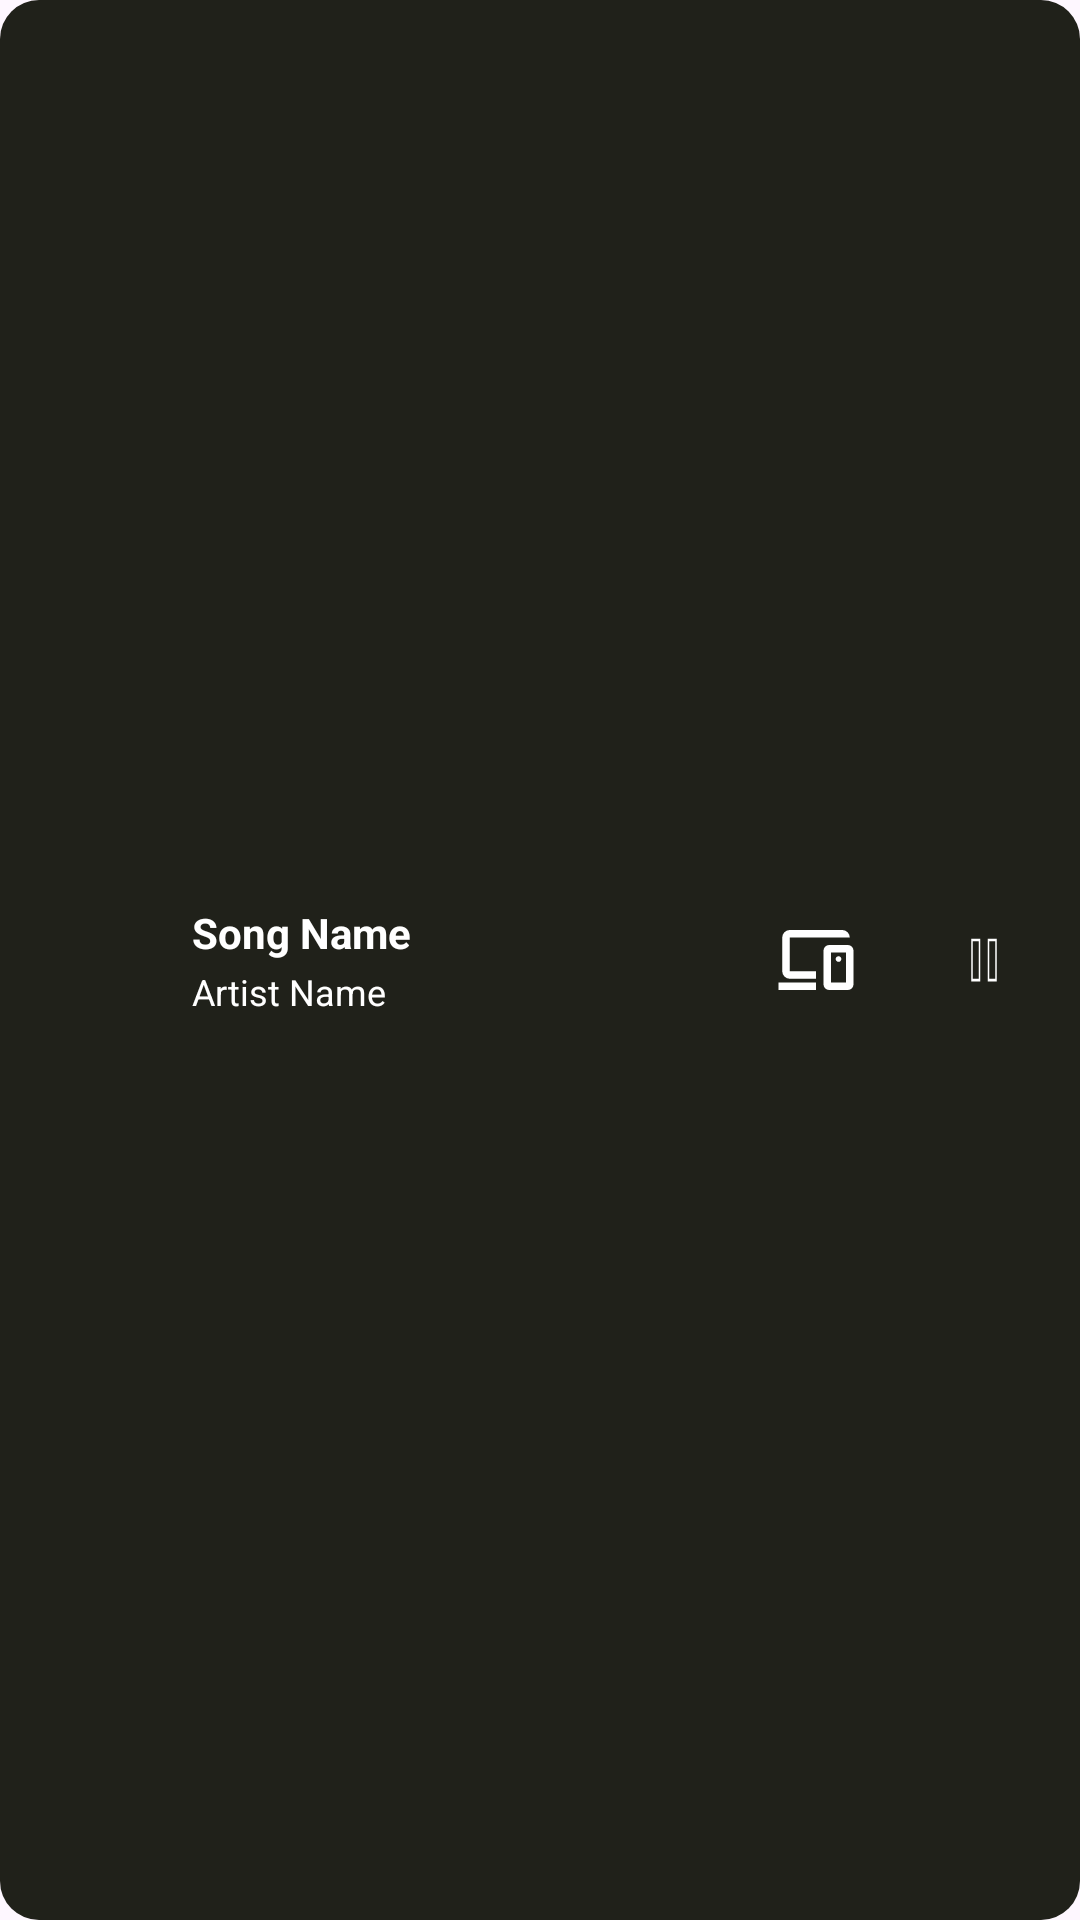

Icon bounding boxes for this 1080px x 1920px phone screenshot, format (x1, y1, x2, y2):
devices: (778, 930, 854, 990)
miniplayer pause: (971, 938, 997, 982)
